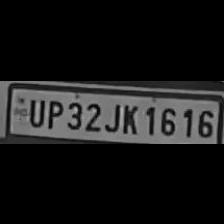1: (140, 102, 156, 136), (178, 105, 195, 137)
2: (82, 97, 102, 130)
3: (64, 97, 82, 129)
6: (194, 105, 214, 138), (156, 104, 176, 136)
J: (103, 98, 120, 132)
K: (119, 100, 139, 134)
P: (44, 96, 62, 128)
U: (26, 95, 44, 127)
